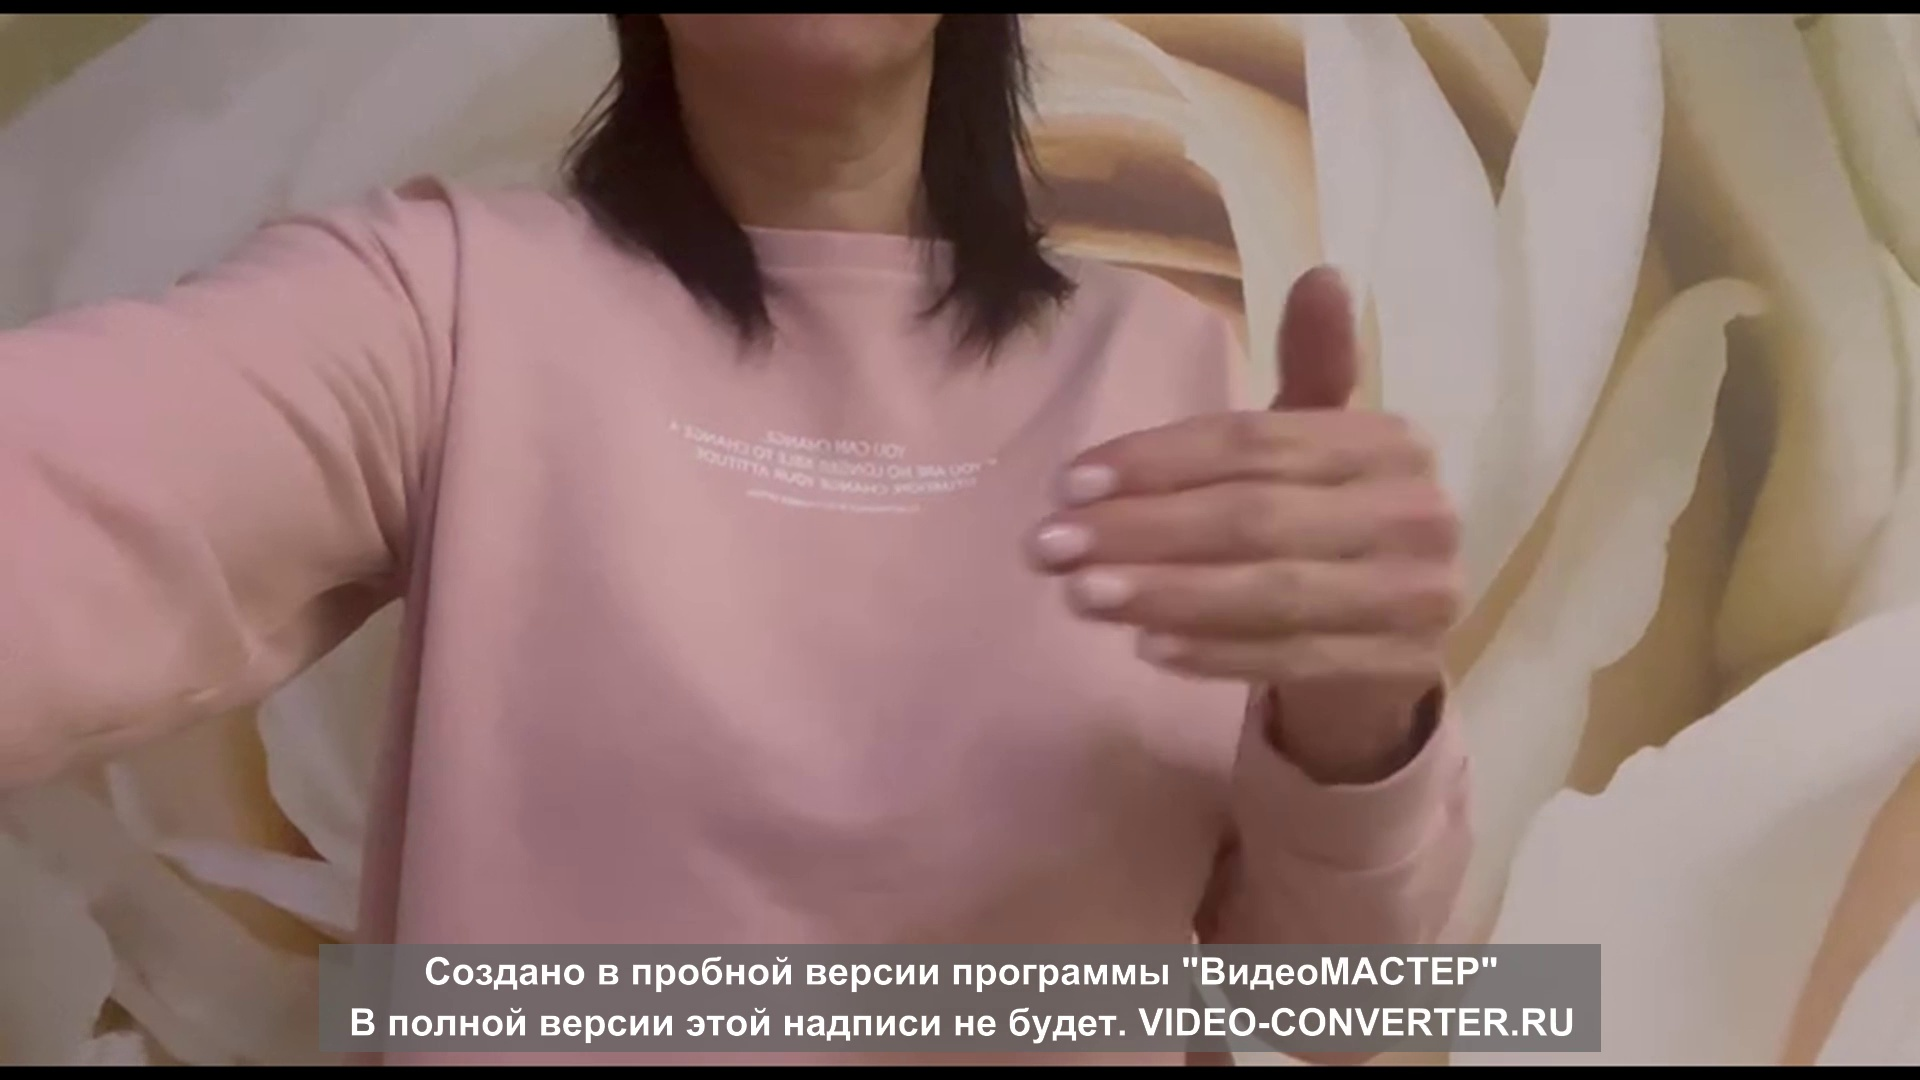Кисть: (1026, 261, 1448, 694)
